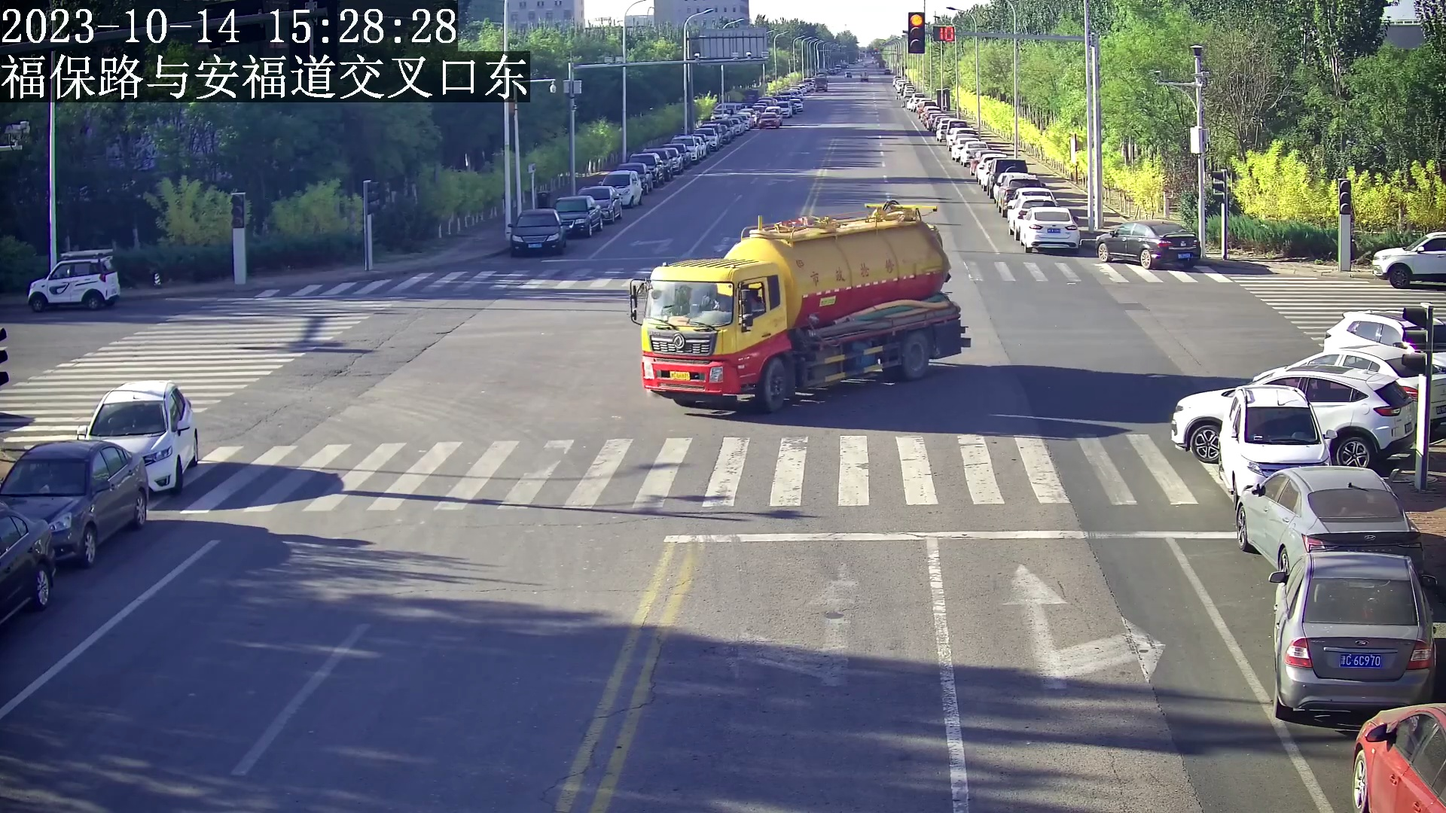vehicle: (623, 199, 969, 404), (1271, 550, 1439, 715), (1170, 366, 1414, 464), (1233, 465, 1426, 571), (2, 441, 145, 559), (74, 379, 199, 492), (1223, 383, 1329, 493), (22, 248, 120, 310), (1094, 216, 1203, 268), (1373, 226, 1445, 288), (506, 207, 569, 254), (1019, 206, 1078, 253), (555, 196, 602, 235)
